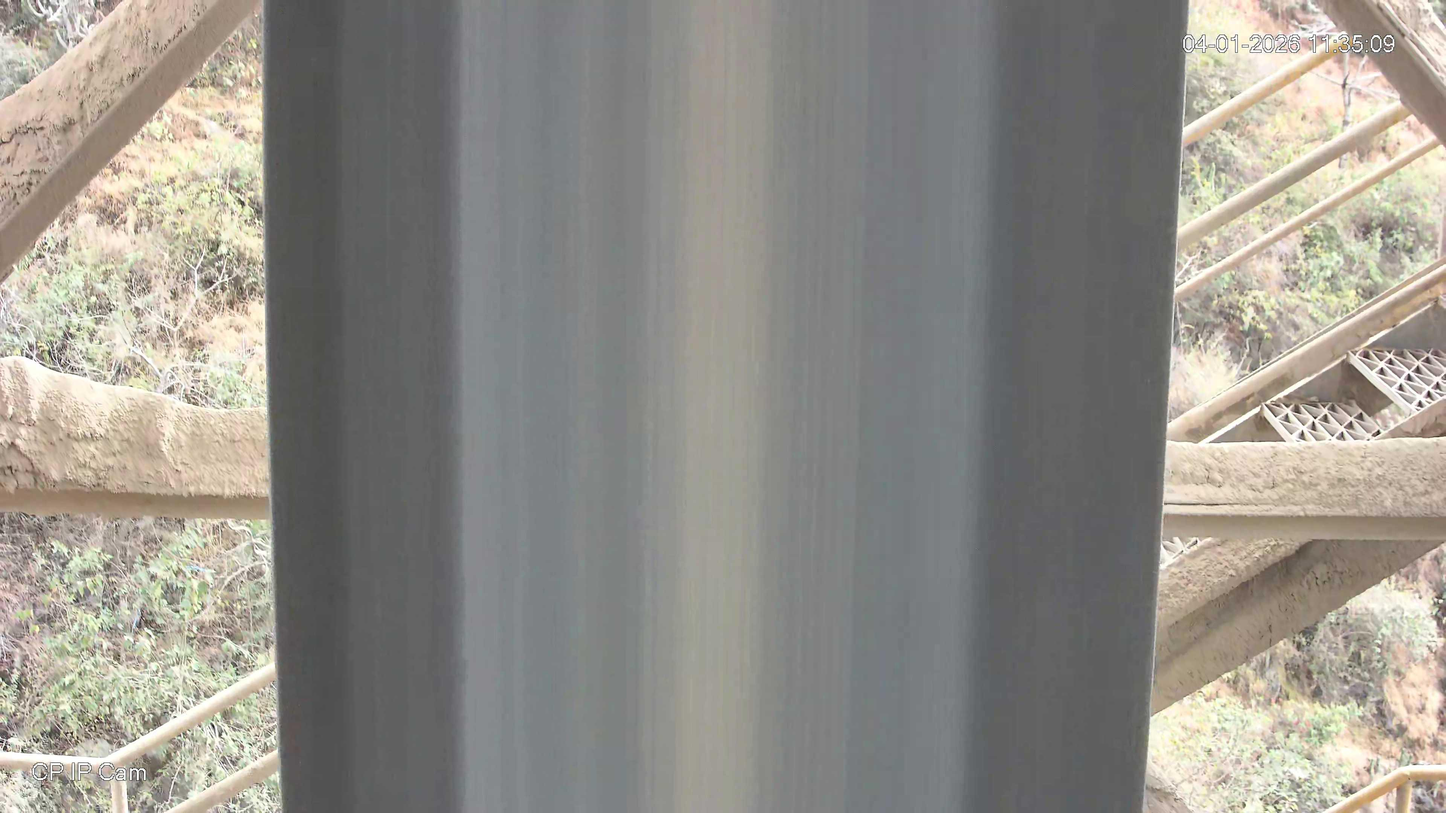belt_roi: (259, 0, 1187, 813)
